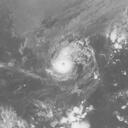cyclone: (49, 41, 83, 77)
